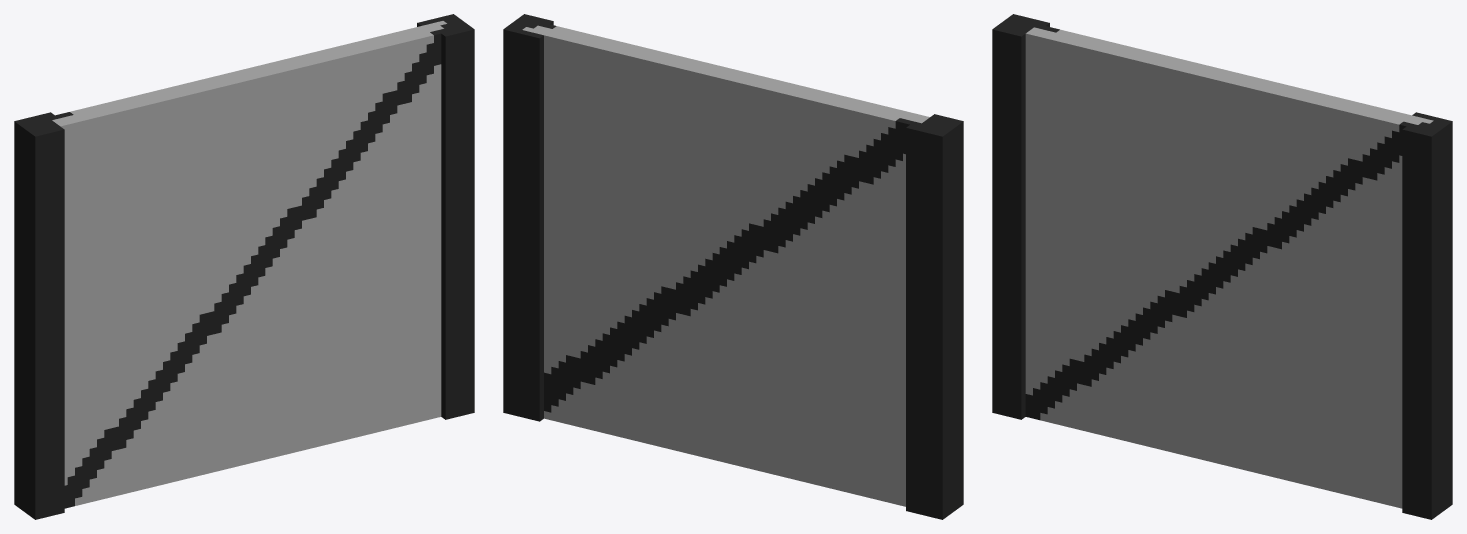
File: ShortWall.obj
The picture shows the model from 3 angles, left to right: view 1: azimuth 30°, elevation 25°; view 2: azimuth 150°, elevation 25°; view 3: azimuth 330°, elevation 25°; orthographic projection.
Size of the model in its own units: 6 by 5 by 0.5.
1 material, 1 textured.
